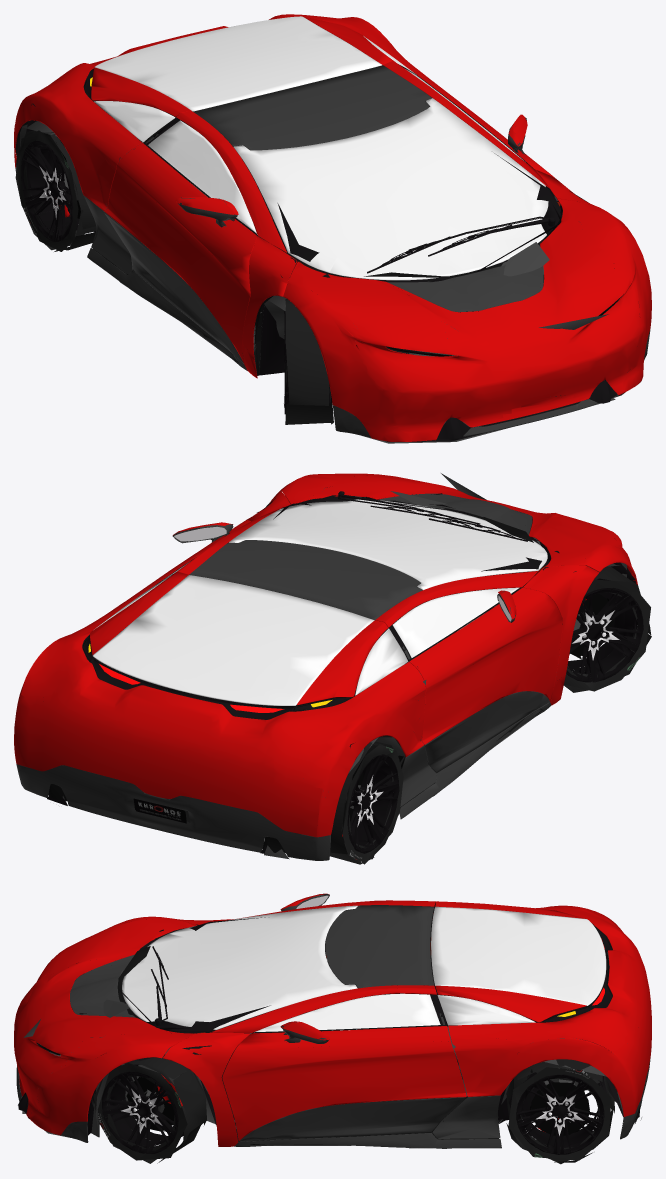
Rendered from ConceptCar.fbx.
3 views of the same model, one above another, from view 1: azimuth 30°, elevation 25°; view 2: azimuth 150°, elevation 25°; view 3: azimuth 270°, elevation 25° (orthographic). The views are drawn at different scales.
Visible parts, largest first — view 1: BodyHood, BodyWindshield, BodyRearwindow, BodyDoorRColor1, BodyRearPanelsColor1, BodyRoofPanel, BodyPillars, BodyPanelsColor2, Mesh_91, BodyHoodTopgrill, BodyDoorRWindow, WheelRearRRim (+12 smaller); view 2: BodyRearPanelsColor1, BodyRearwindow, BodyWindshield, BodyDoorRColor1, BodyPanelsColor2, BodyRoofPanel, BodyHood, BodyPillars, WheelFrontRRim, BodyDoorRColor2, WheelRearRRim, BodyDoorRWindow (+11 smaller); view 3: BodyRearPanelsColor1, BodyWindshield, BodyDoorLColor1, BodyHood, BodyRearwindow, BodyRoofPanel, BodyPillars, BodyDoorLColor2, BodyPanelsColor2, Mesh_89, WheelRearLRim, WheelFrontLRim (+15 smaller).
Boxes of the visible parts, box(x1,y1,x2,y2) form: BodyHood: box(283, 198, 651, 441); BodyWindshield: box(233, 98, 548, 280); BodyRearwindow: box(94, 16, 381, 111); BodyDoorRColor1: box(104, 143, 257, 362); BodyRearPanelsColor1: box(14, 14, 429, 210); BodyRoofPanel: box(193, 65, 431, 150); BodyPillars: box(176, 61, 597, 378); BodyPanelsColor2: box(15, 163, 650, 437); Mesh_91: box(285, 299, 333, 424); BodyHoodTopgrill: box(387, 245, 543, 312); BodyDoorRWindow: box(148, 120, 257, 234); WheelRearRRim: box(21, 140, 95, 241); BodyRearPanelsColor1: box(14, 572, 425, 837); BodyRearwindow: box(92, 575, 374, 705); BodyWindshield: box(229, 499, 547, 590); BodyDoorRColor1: box(409, 587, 562, 744); BodyPanelsColor2: box(16, 702, 551, 860); BodyRoofPanel: box(189, 540, 422, 620); BodyHood: box(278, 473, 637, 584); BodyPillars: box(174, 491, 599, 705); WheelFrontRRim: box(566, 580, 643, 682); BodyDoorRColor2: box(424, 691, 549, 772); WheelRearRRim: box(342, 754, 399, 853); BodyDoorRWindow: box(392, 587, 519, 657); BodyRearPanelsColor1: box(435, 901, 651, 1116); BodyWindshield: box(122, 905, 357, 1029); BodyDoorLColor1: box(222, 1026, 466, 1141); BodyHood: box(14, 916, 196, 1135); BodyRearwindow: box(431, 906, 606, 1005); BodyRoofPanel: box(325, 905, 434, 988); BodyPillars: box(163, 900, 436, 1146); BodyDoorLColor2: box(239, 1097, 466, 1141); BodyPanelsColor2: box(16, 1057, 650, 1148); Mesh_89: box(91, 1056, 206, 1163); WheelRearLRim: box(516, 1074, 604, 1154); WheelFrontLRim: box(101, 1064, 183, 1153).
Bounding box in the file's own units: 2.55 × 1.15 × 4.36.
Materials: 23 (3 with a texture image).
